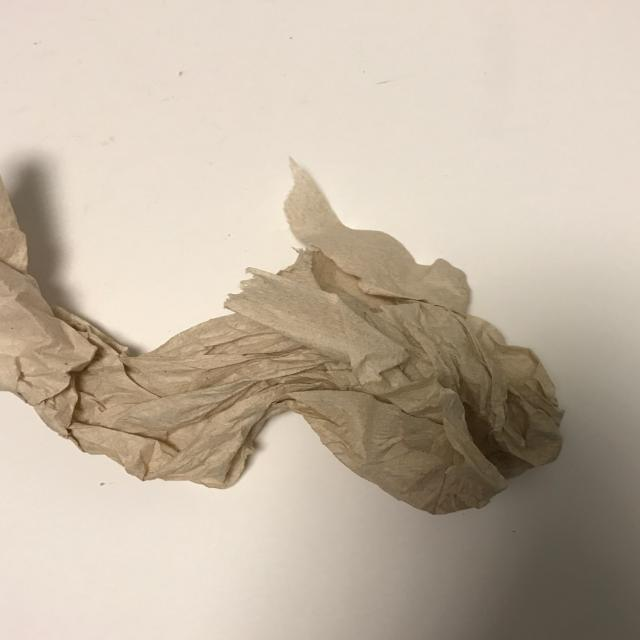trash: (0, 154, 566, 515)
